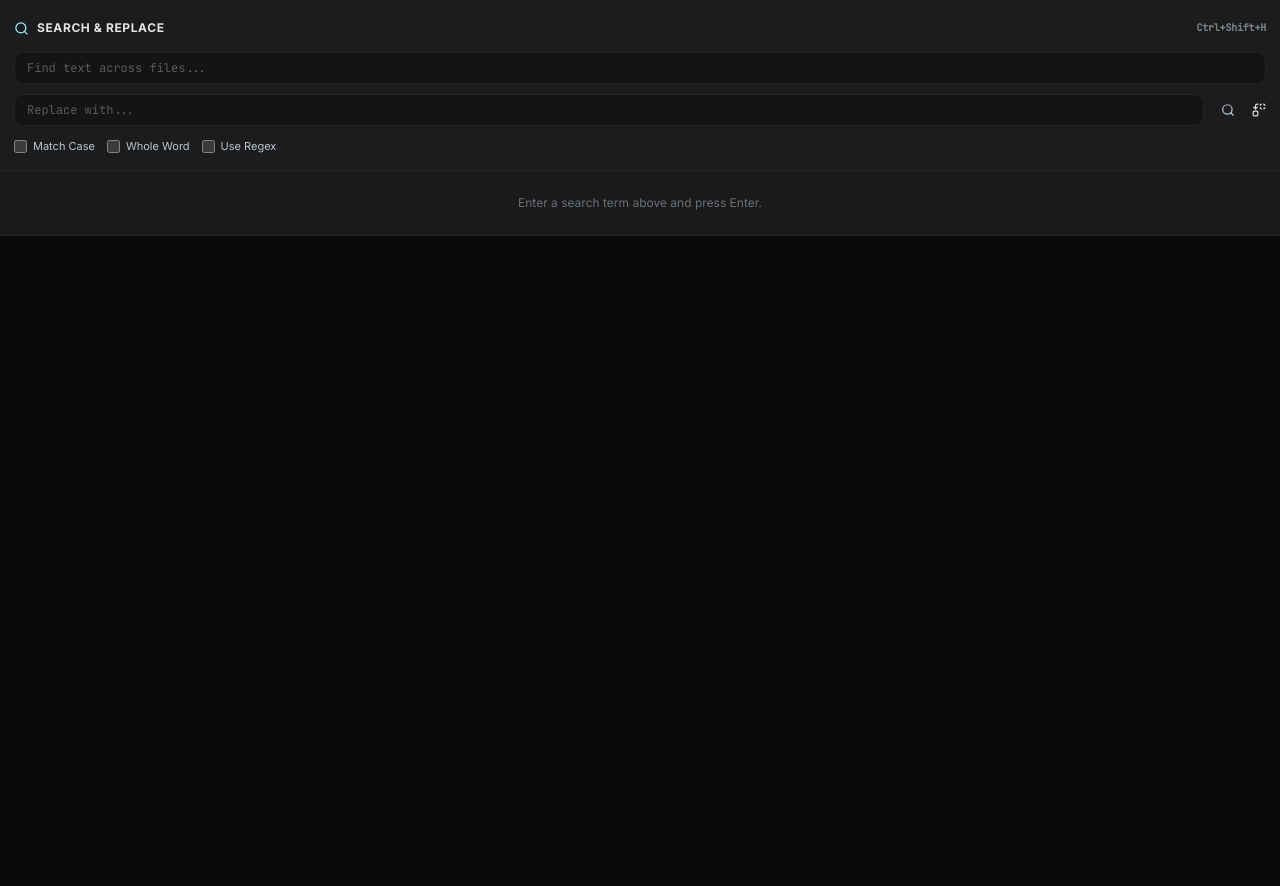
it: Phase 1: Search & Replace Across Files › shows confirmation modal if more than 20 files are affected
Type "test" into the field with test id "search-query-input" at (640, 68), box [14, 52, 1266, 84]
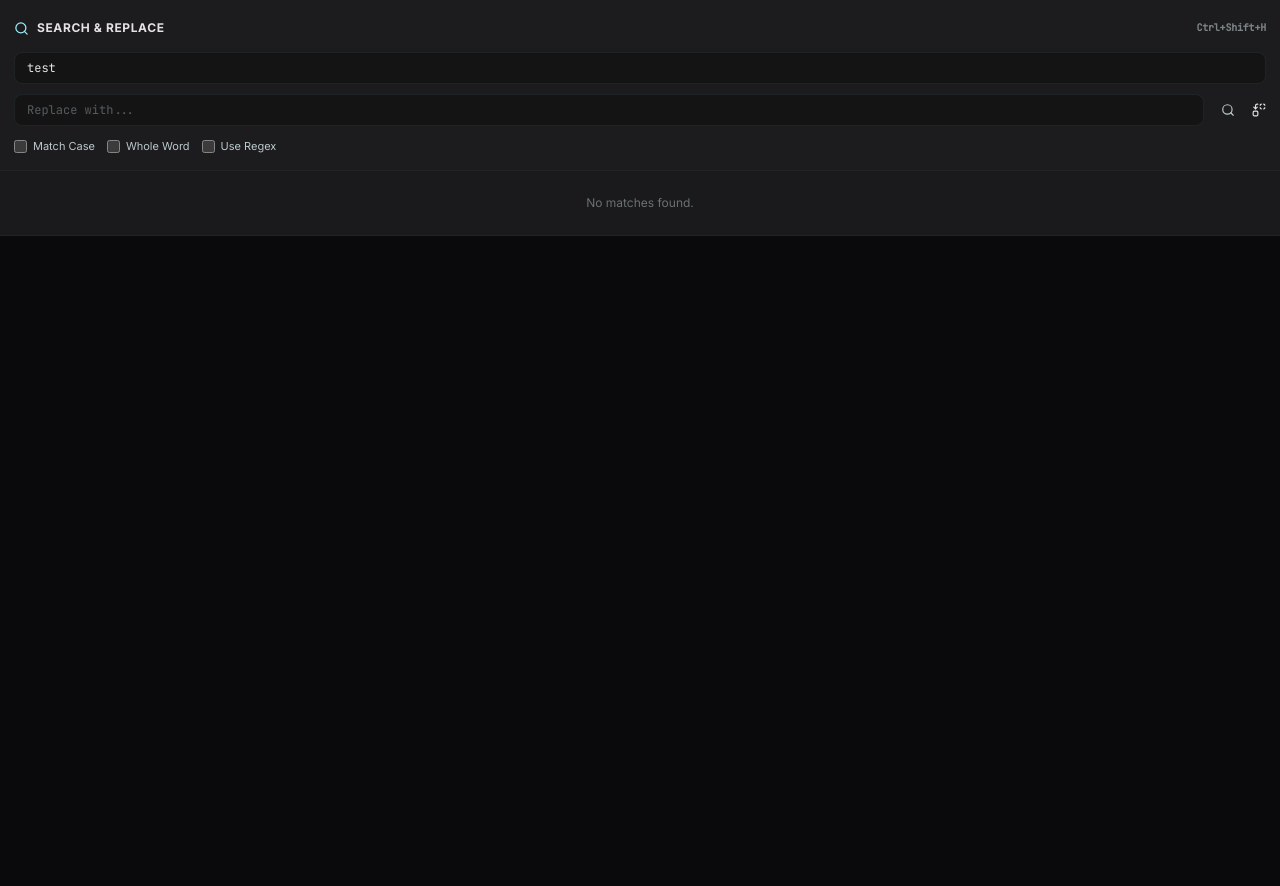
Type "prod" into the field with test id "replace-query-input" at (609, 110), box [14, 94, 1204, 126]
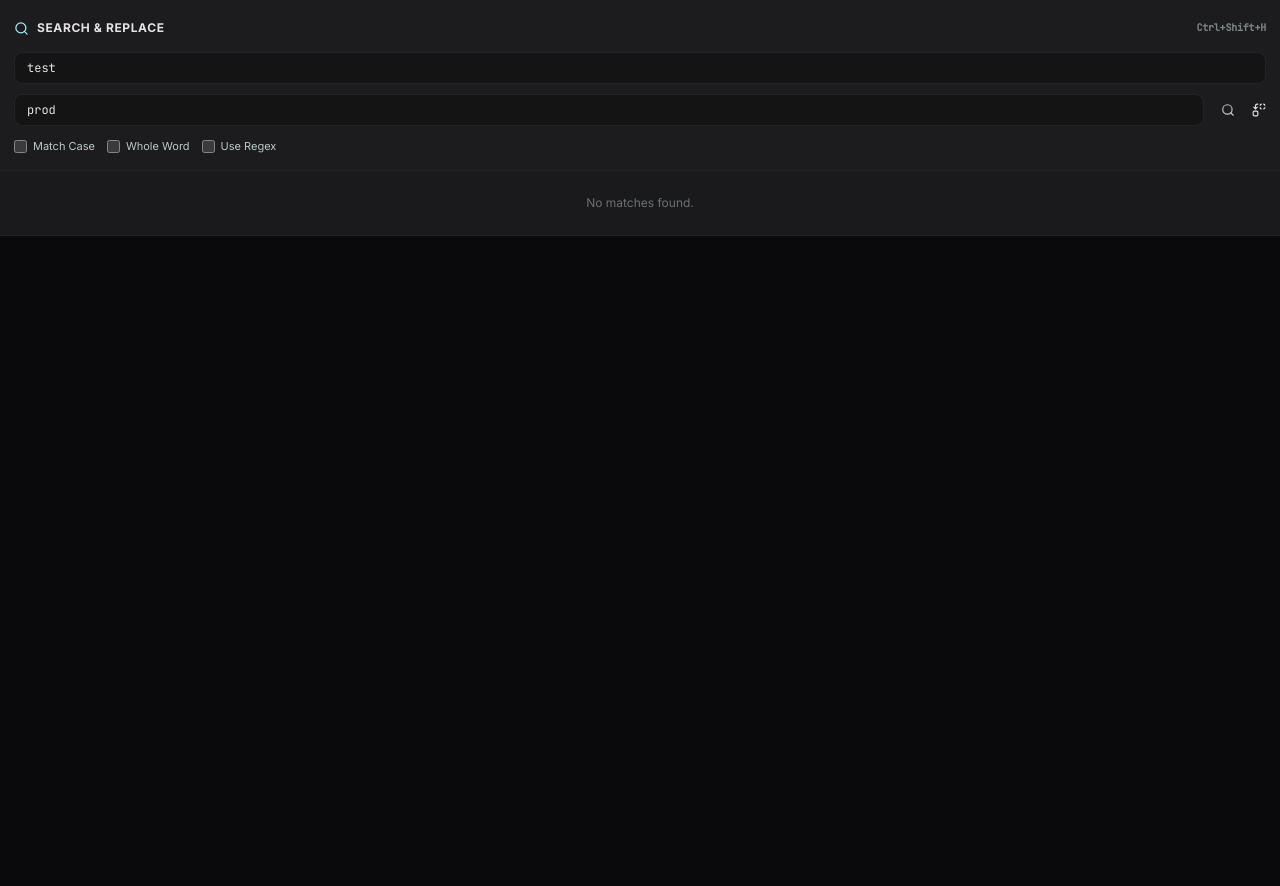
Click the button with test id "search-submit-btn" at (1228, 110), box [1212, 94, 1244, 126]
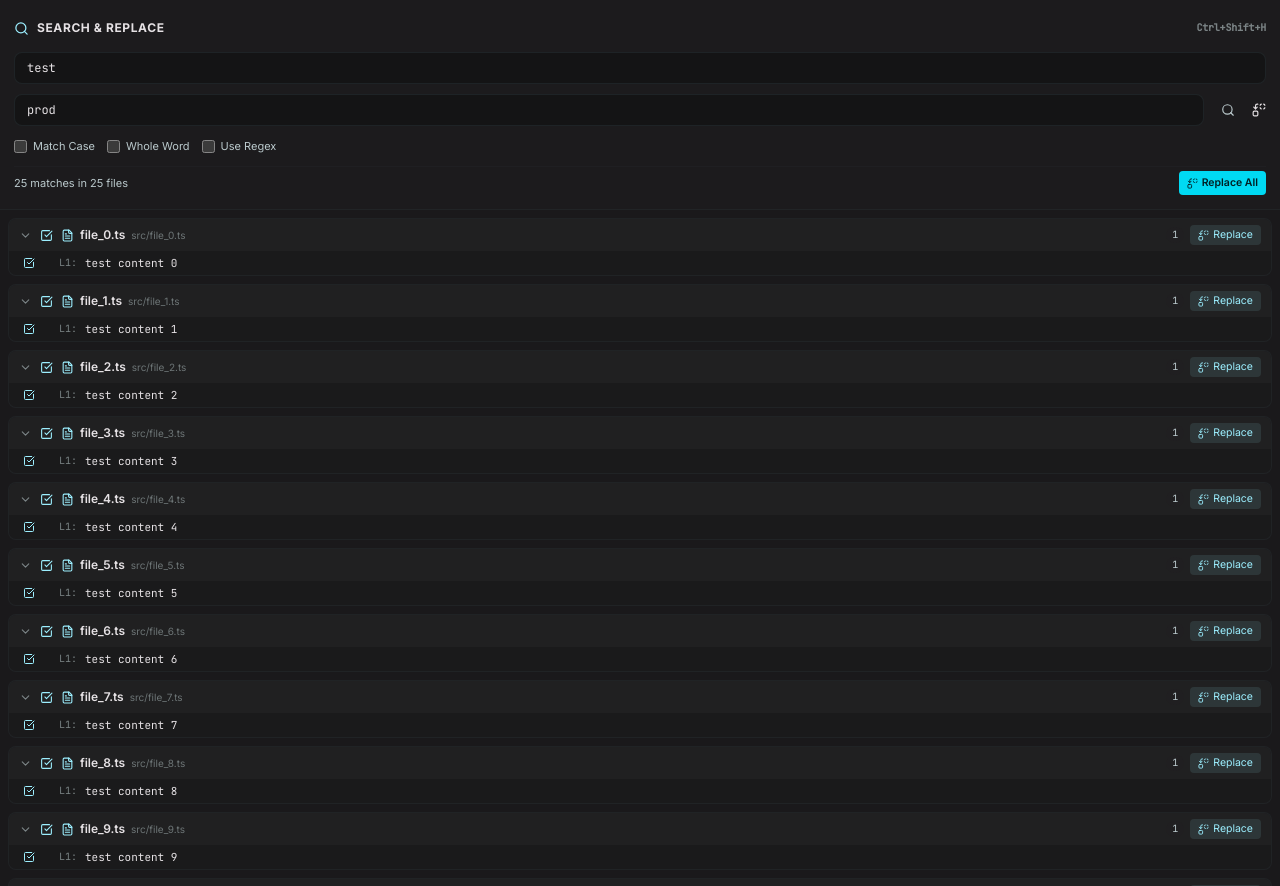
Check: the text "file_0.ts" is shown, box [80, 227, 125, 243]
Click the button with test id "replace-all-btn" at (1259, 110), box [1252, 94, 1266, 126]
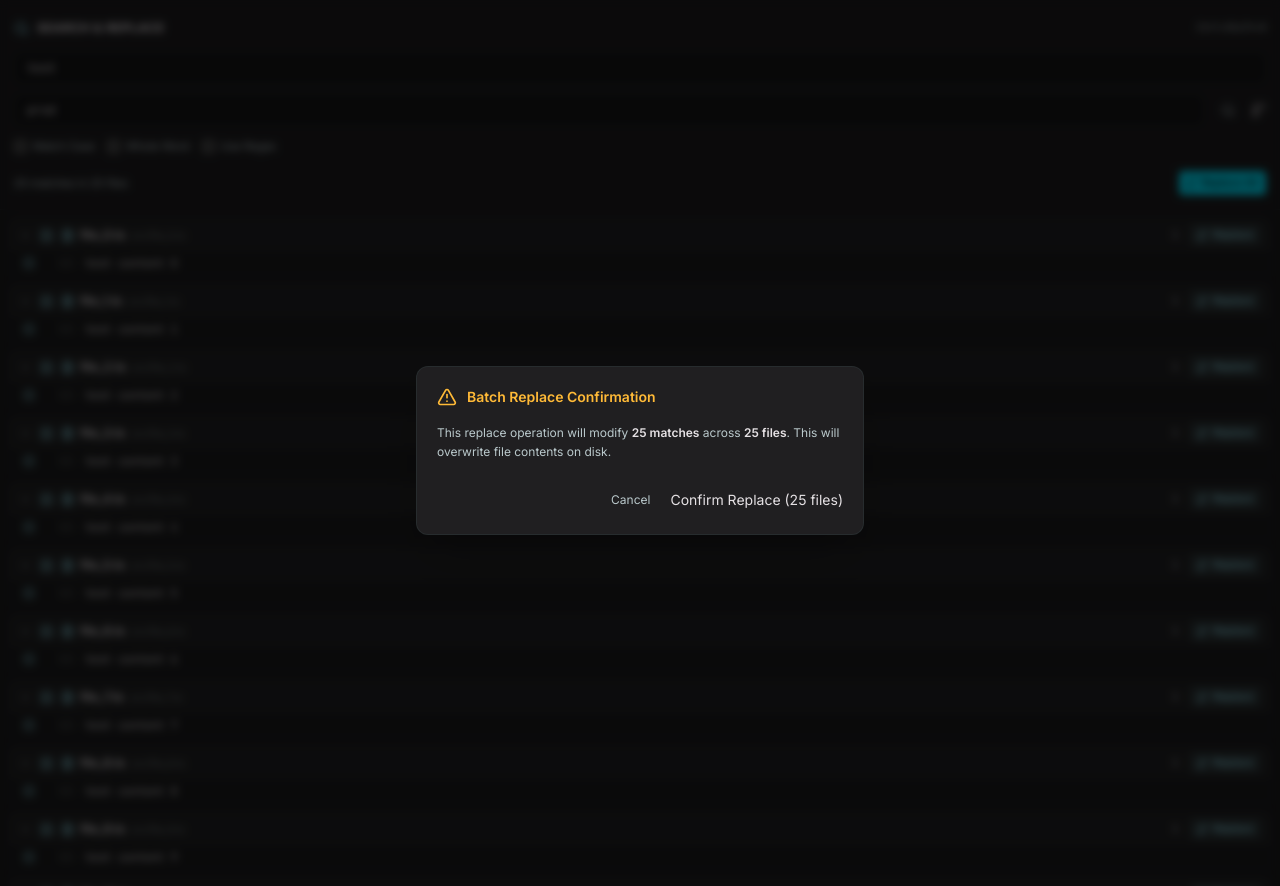
Check: the text "Batch Replace Confirmation" is shown, box [467, 386, 656, 406]
